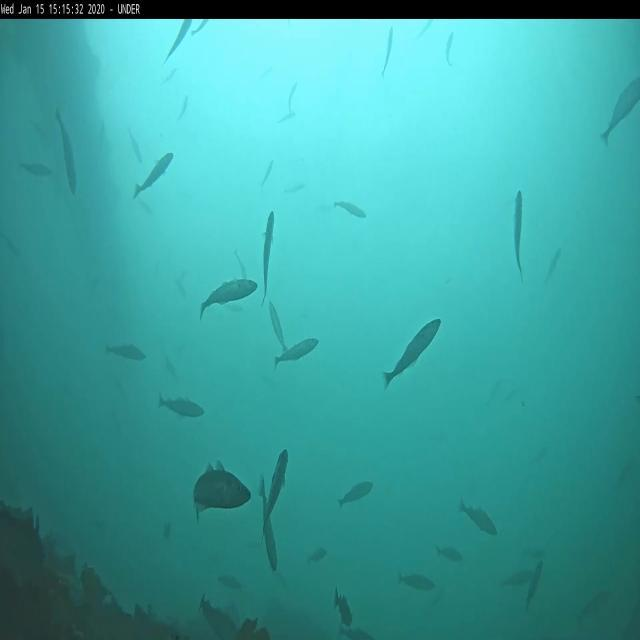fish: (381, 318, 440, 390), (192, 462, 251, 518), (601, 76, 639, 147), (200, 280, 257, 320), (54, 109, 78, 194), (133, 151, 175, 197), (258, 480, 279, 570), (259, 208, 277, 306), (200, 595, 240, 637), (273, 336, 317, 369), (269, 449, 290, 517), (459, 498, 497, 534), (165, 20, 192, 65), (159, 394, 204, 419), (514, 191, 526, 279), (580, 589, 614, 619), (337, 481, 373, 507), (524, 562, 544, 608), (104, 342, 146, 360), (334, 589, 354, 626), (544, 247, 561, 283), (20, 159, 52, 178), (436, 542, 462, 564), (382, 26, 393, 77), (396, 576, 434, 590), (334, 203, 367, 219), (129, 127, 142, 163), (219, 572, 243, 591), (338, 626, 372, 639), (262, 162, 274, 192), (234, 253, 246, 281), (308, 548, 327, 564), (416, 19, 432, 38), (283, 180, 307, 192), (288, 85, 297, 114), (446, 33, 454, 65), (192, 20, 207, 35), (165, 66, 179, 82), (276, 114, 296, 125), (180, 95, 188, 119)
